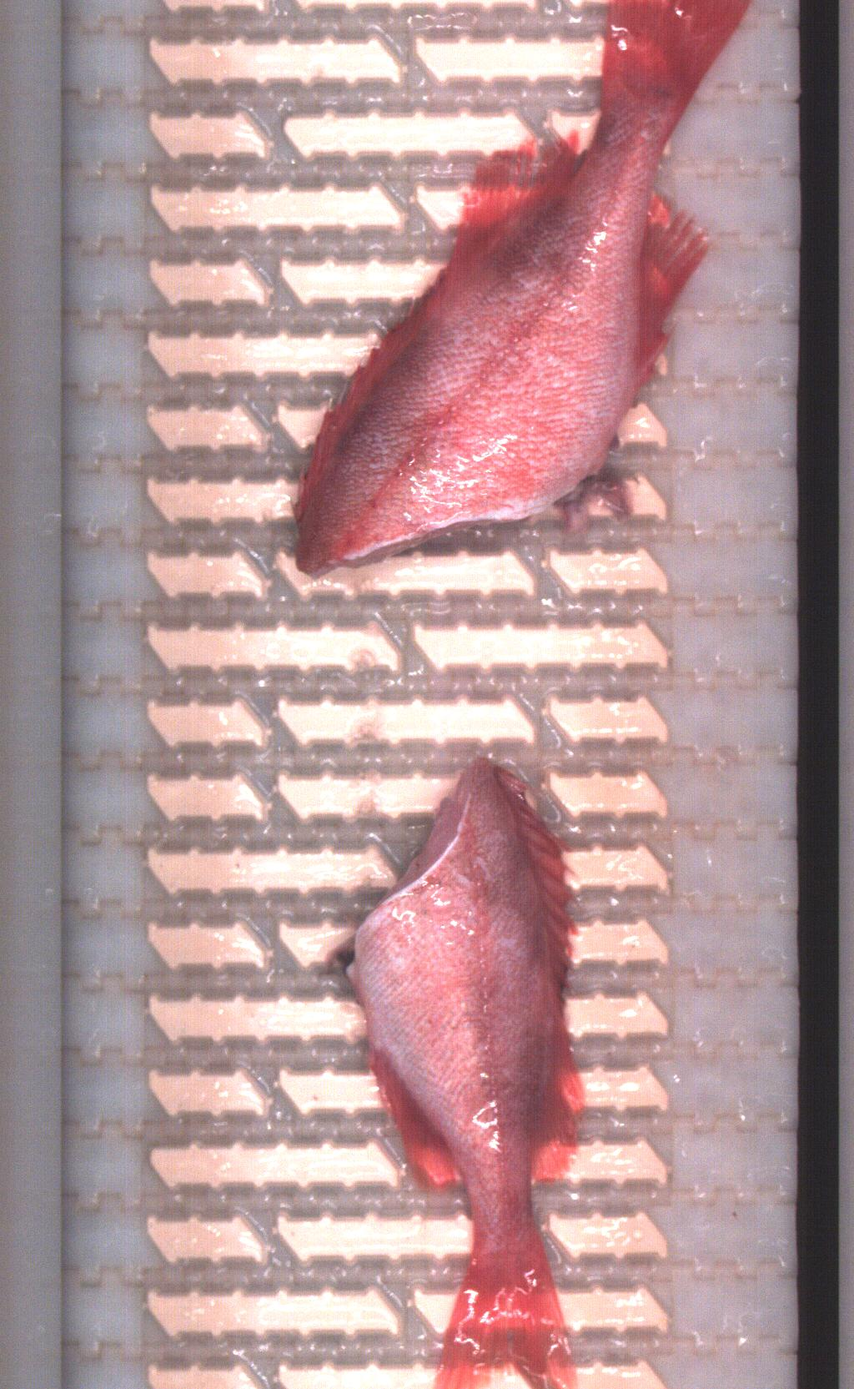Fish: (294, 0, 749, 574), (348, 758, 584, 1389)
